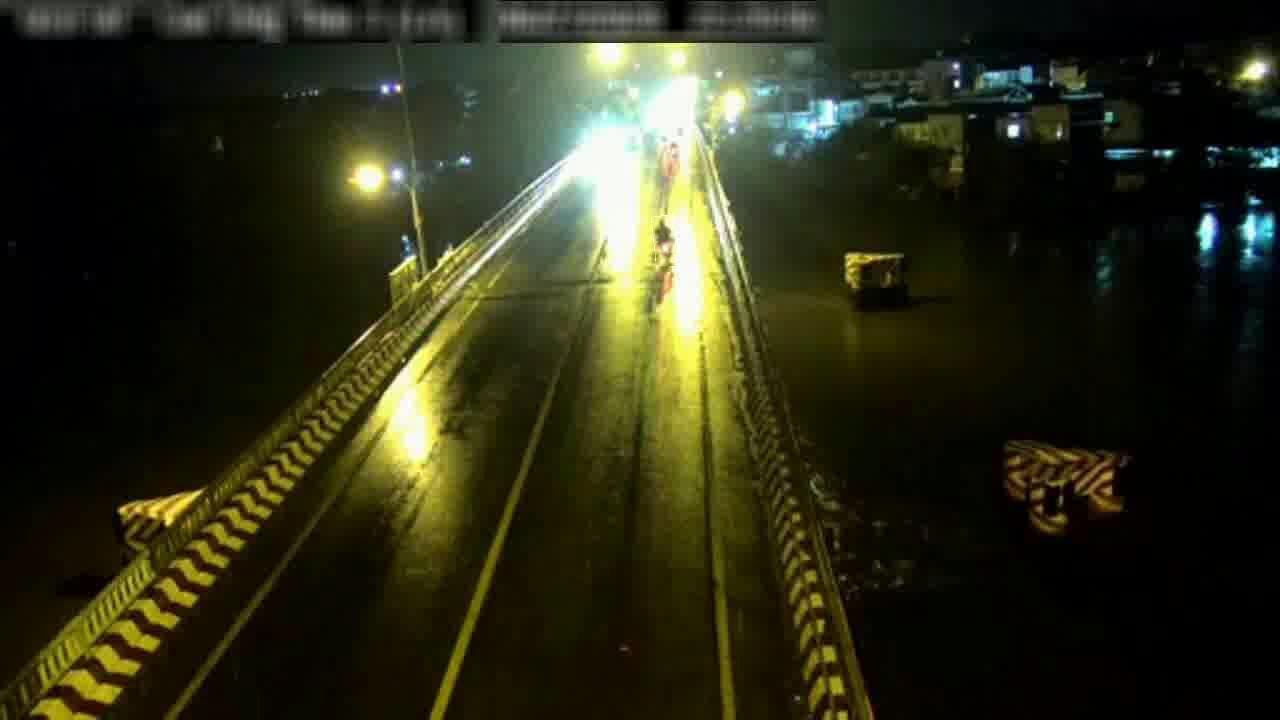motorbike: (653, 216, 676, 267)
